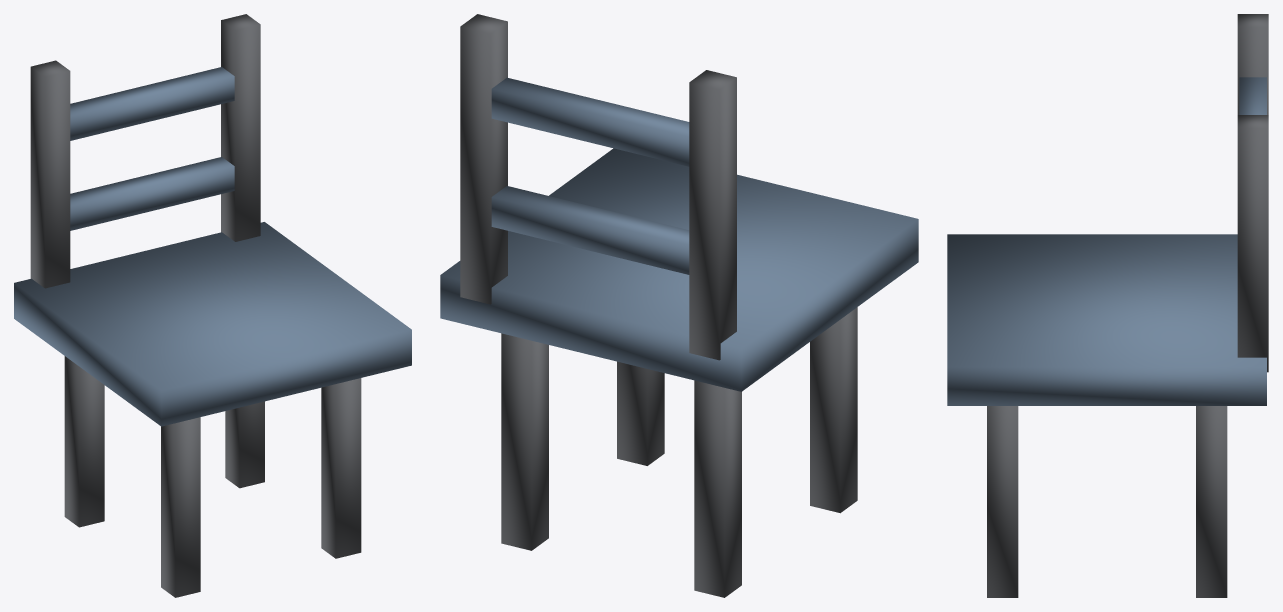
Rendered from waiting_chair__squat.glb.
The picture shows the model from 3 angles, left to right: view 1: azimuth 30°, elevation 25°; view 2: azimuth 150°, elevation 25°; view 3: azimuth 270°, elevation 25°; orthographic projection. The views are drawn at different scales.
Parts seen in each view (by area): view 1: world; view 2: world; view 3: world.
Part boxes in pixels (left/top/right/bottom): world: left=14, top=14, right=411, bottom=597; world: left=440, top=14, right=918, bottom=597; world: left=947, top=14, right=1268, bottom=597.
Size of the model in its own units: 0.4895 by 0.8217 by 0.5012.
